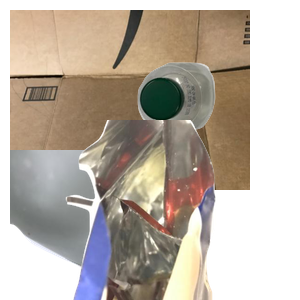cardboard: (10, 10, 250, 190)
glass: (10, 150, 190, 300)
plastic: (135, 60, 300, 184)
trash: (63, 120, 300, 300)
